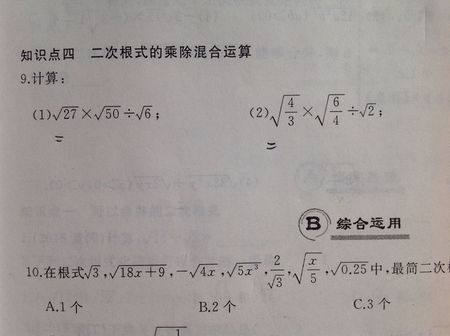cube: (252, 261, 260, 271)
division: (268, 267, 289, 274), (303, 267, 322, 274), (284, 108, 302, 115), (326, 108, 345, 114)
sqrt: (291, 249, 324, 287), (269, 91, 302, 128), (316, 90, 346, 130), (108, 263, 168, 281), (330, 257, 370, 278), (226, 259, 262, 279), (51, 102, 80, 122), (187, 262, 219, 280), (95, 104, 121, 121), (134, 103, 154, 121), (359, 101, 379, 119), (82, 263, 102, 279), (269, 272, 285, 290)
